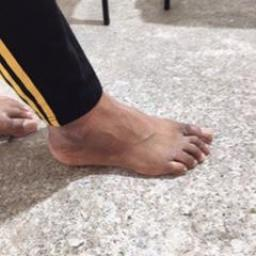Lateral View -Right Foot-: (33, 78, 224, 187)
